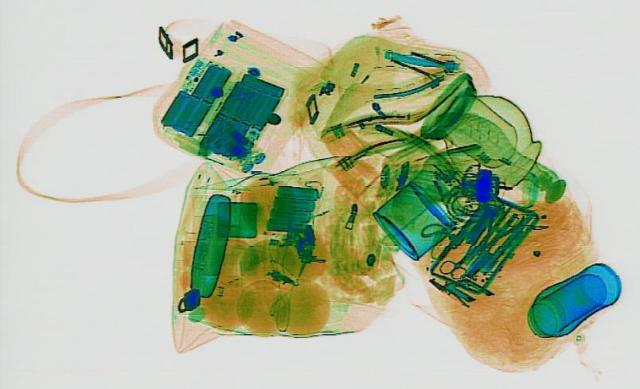Pliers: (464, 202, 528, 254)
Scissors: (433, 241, 485, 278)
